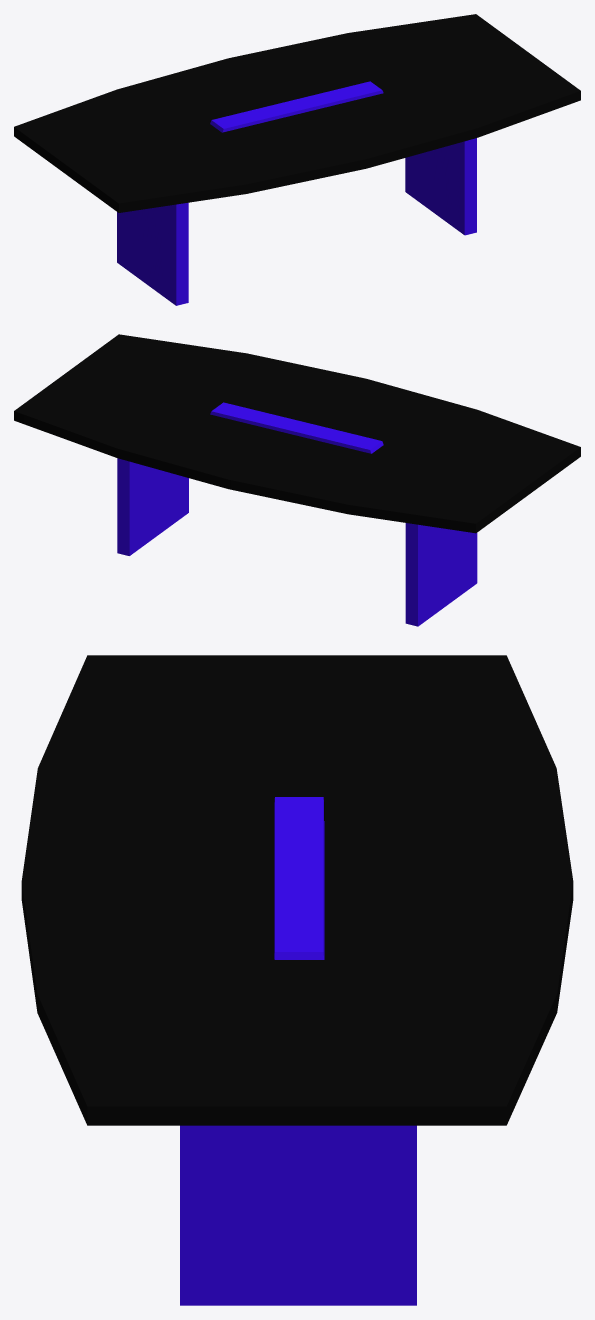
Rendered from office_pack_meetingTable_1_meshCollider.fbx.
3 views of the same model, one above another, from view 1: azimuth 30°, elevation 25°; view 2: azimuth 150°, elevation 25°; view 3: azimuth 270°, elevation 25° (orthographic). The views are drawn at different scales.
Visible parts, largest first — view 1: office_pack_meetingTable_1_meshCollider, office_pack_meetingTable_1_wireCover1_meshCollider; view 2: office_pack_meetingTable_1_meshCollider, office_pack_meetingTable_1_wireCover1_meshCollider; view 3: office_pack_meetingTable_1_meshCollider, office_pack_meetingTable_1_wireCover1_meshCollider.
Part boxes in pixels (<box>): office_pack_meetingTable_1_meshCollider: <box>14,14,580,305</box>; office_pack_meetingTable_1_wireCover1_meshCollider: <box>210,81,383,132</box>; office_pack_meetingTable_1_meshCollider: <box>14,334,580,626</box>; office_pack_meetingTable_1_wireCover1_meshCollider: <box>210,402,383,453</box>; office_pack_meetingTable_1_meshCollider: <box>21,655,573,1305</box>; office_pack_meetingTable_1_wireCover1_meshCollider: <box>274,797,323,959</box>.
Size of the model in its own units: 150 by 44.02 by 77.4.
